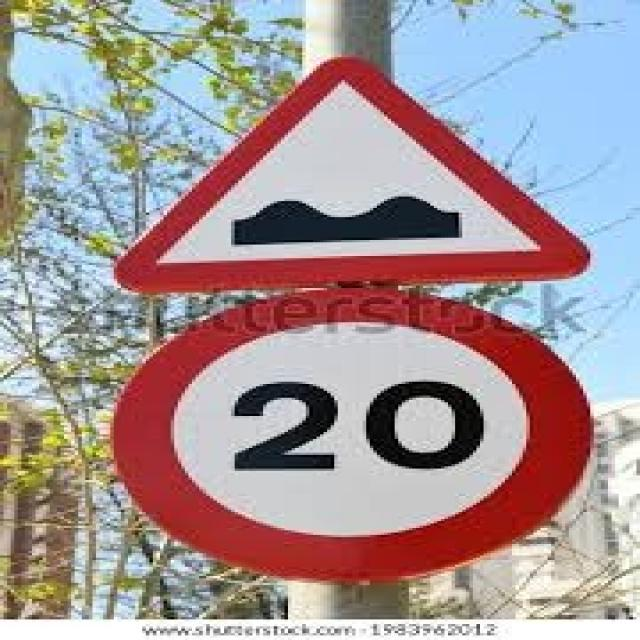speed_limit_20: (110, 287, 606, 585)
